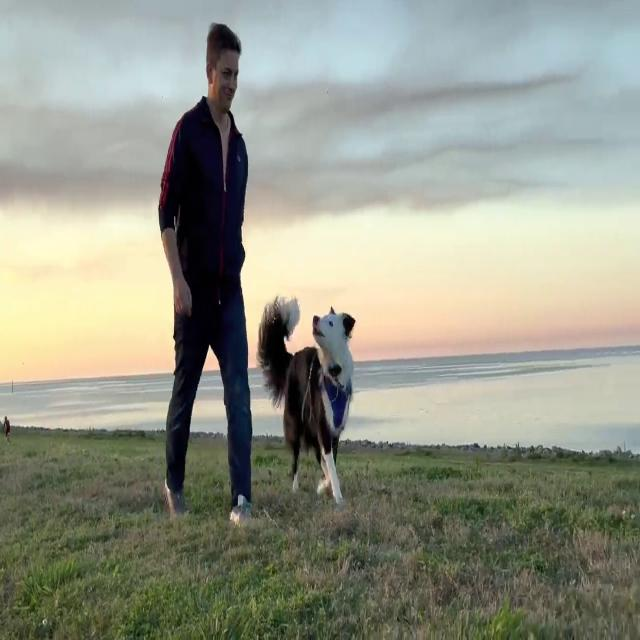Unleashed_Dog: (185, 280, 356, 504)
